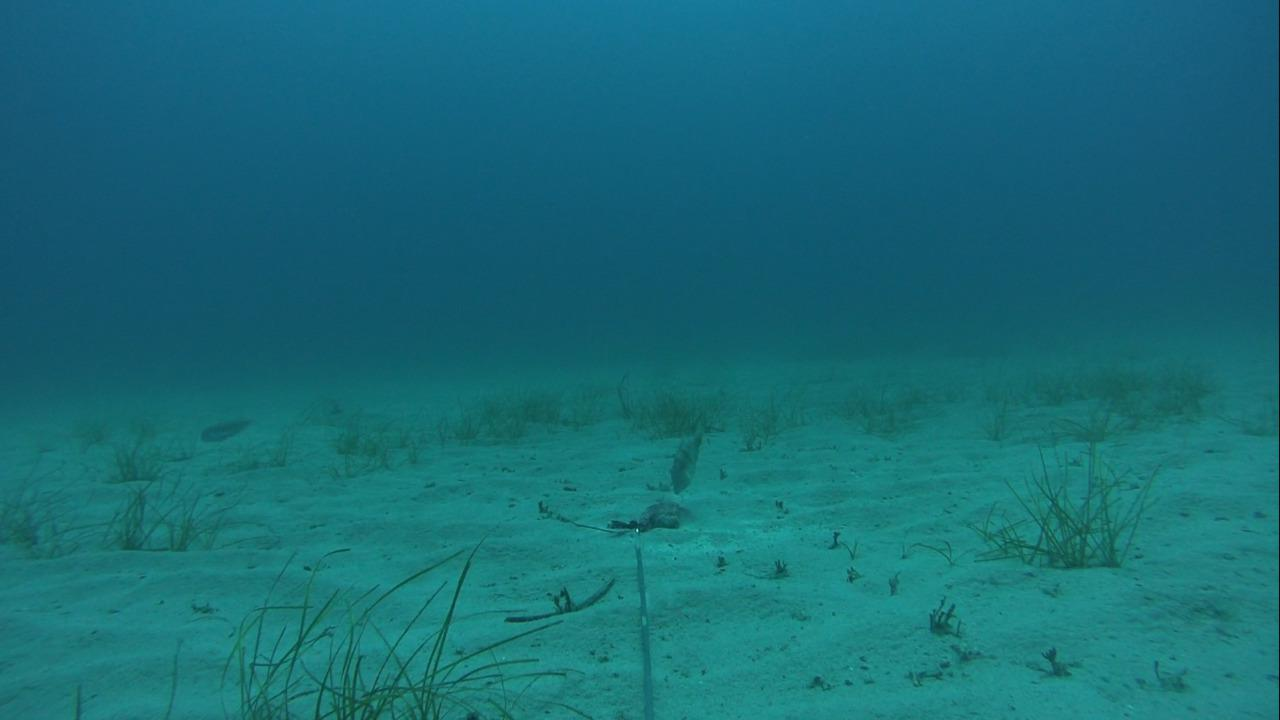raor: (664, 420, 710, 495), (197, 411, 264, 446)
